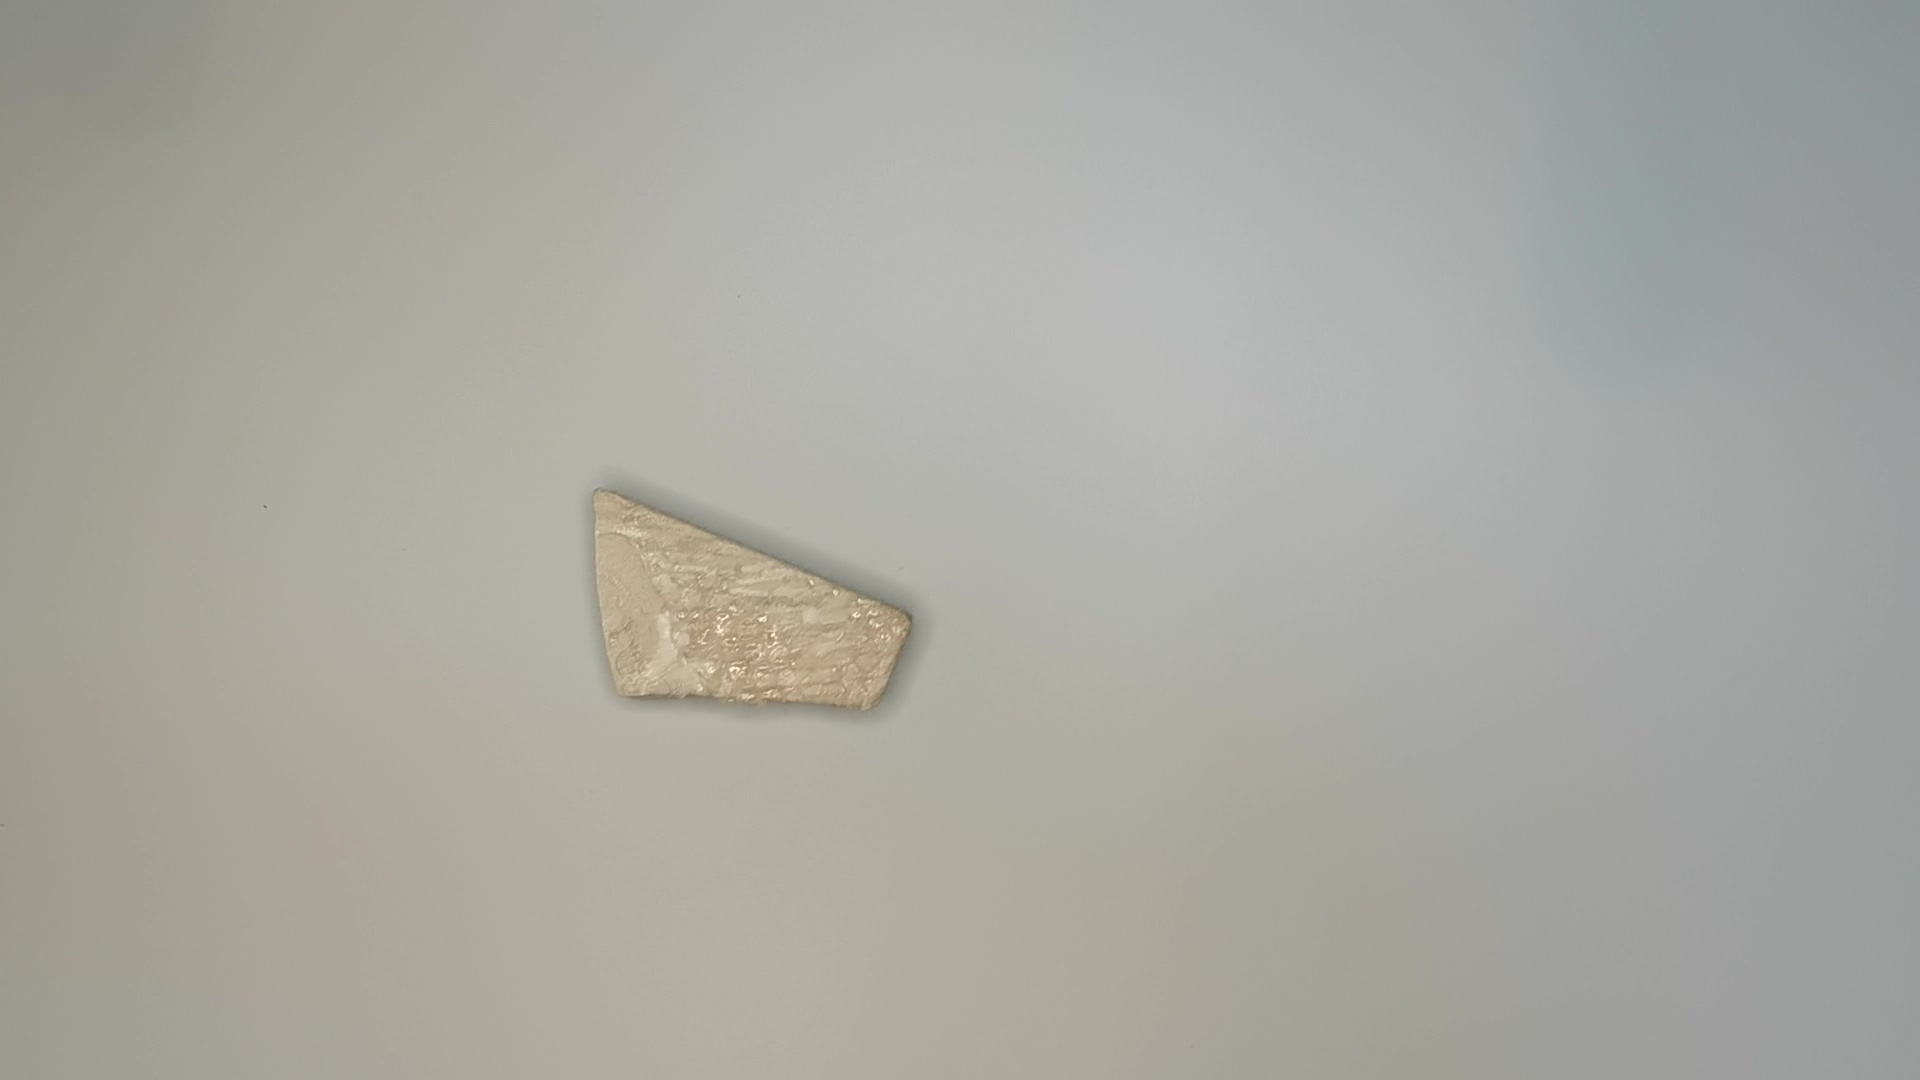ceramic: (585, 487, 926, 727)
